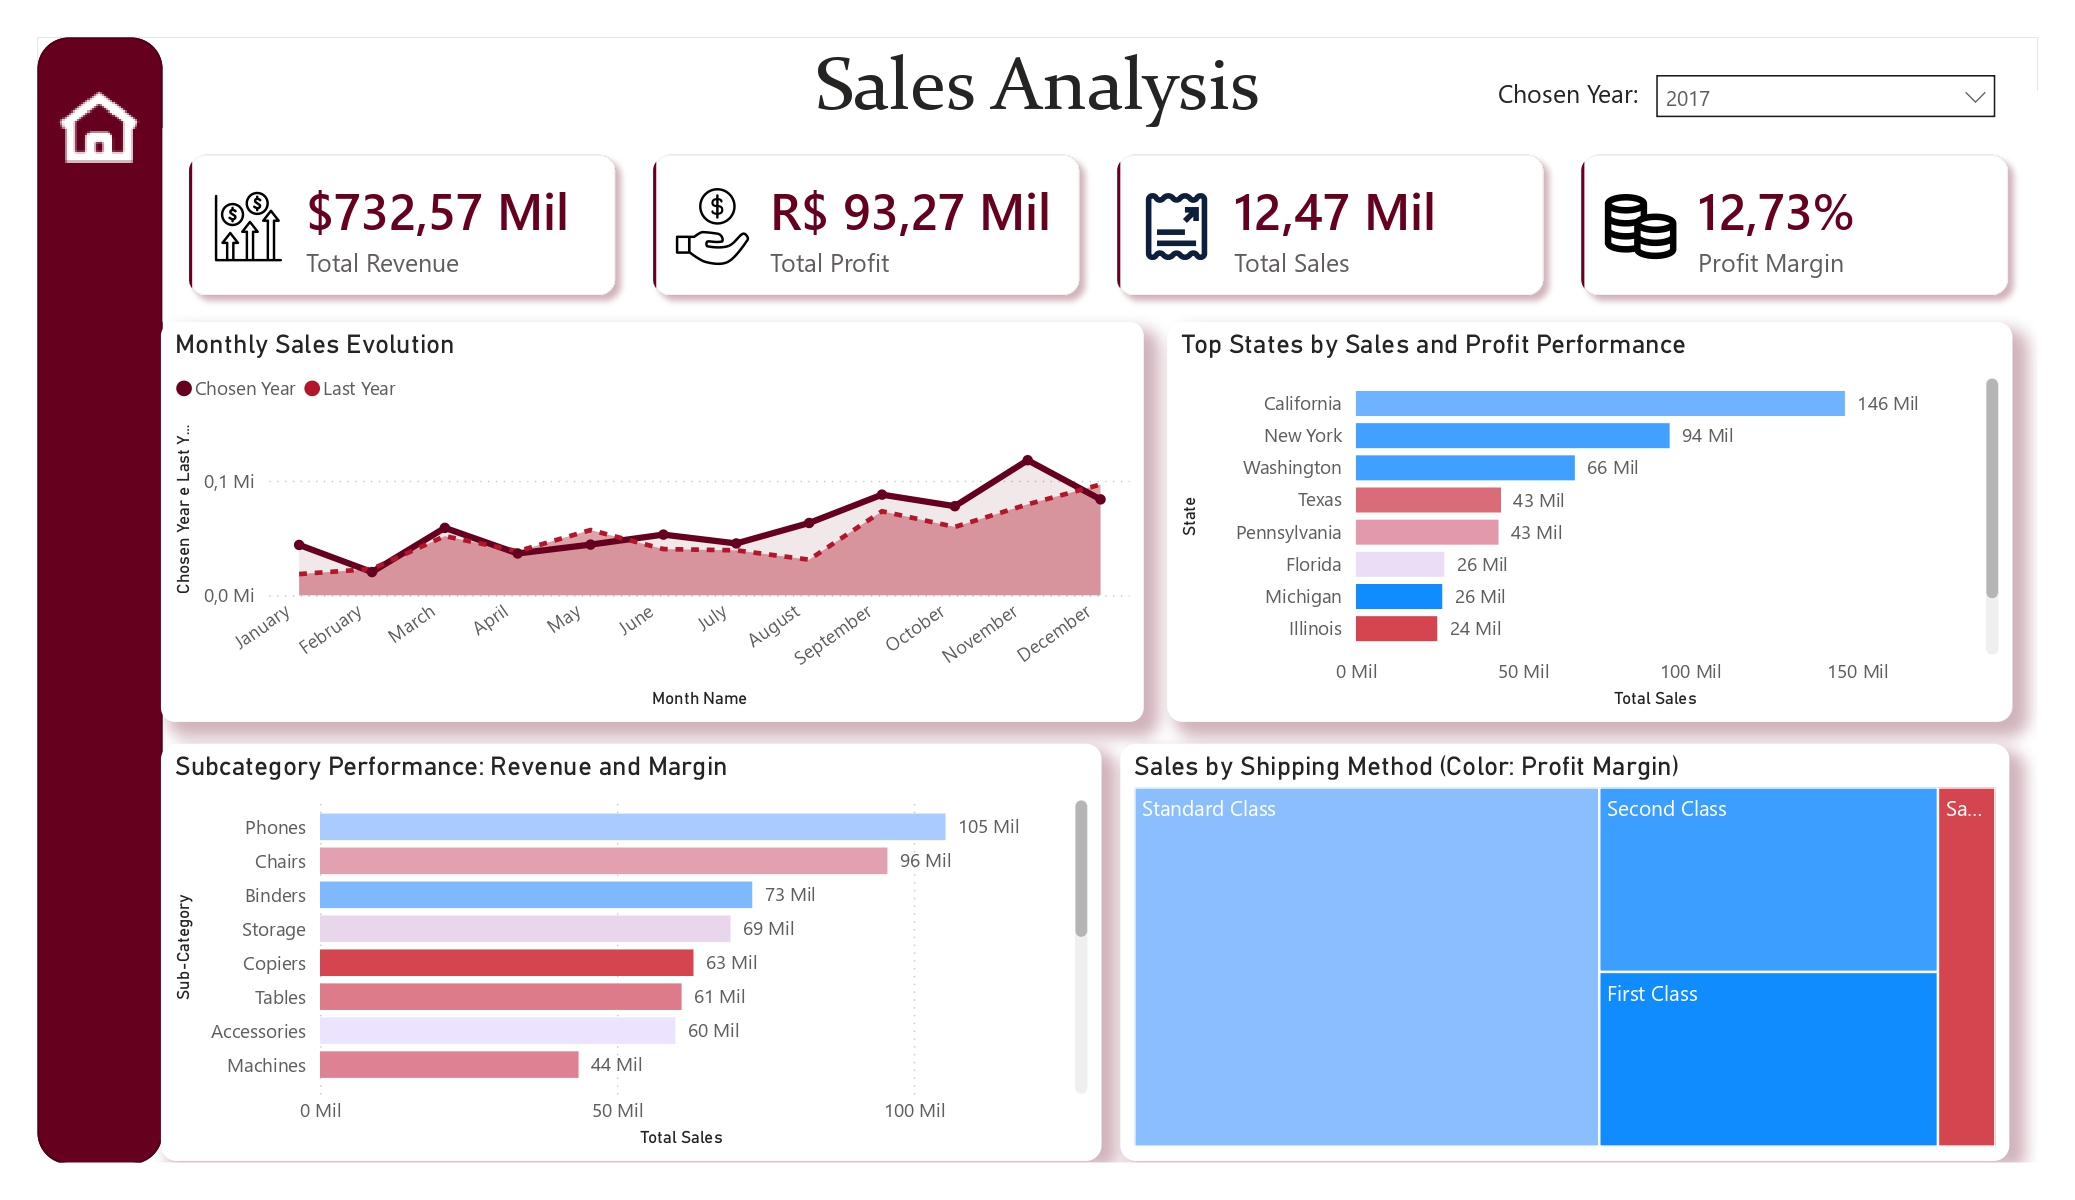

The dashboard page shown, as its layout file describes it:
{"tool":"powerbi","page":{"name":"Página 1","canvas":[1280,720],"ordinal":0},"visuals":[{"type":"textbox","box":[0,0,1280.3,68],"z":0},{"type":"shape","box":[0,0,79.9,720.8],"z":1000},{"type":"cardVisual","fields":{"Data":["_Medidas.Total Sales","_Medidas.Total Profit","_Medidas.Total Quantity","_Medidas.Profit Margin"]},"box":[79.9,57.9,1200.3,124],"z":2000},{"type":"lineChart","title":"Monthly Sales Evolution","fields":{"Category":["dCalendario.Month Name"],"Y":["_Medidas.Total Sales","_Medidas.Sales LY"]},"box":[79.4,182.1,628.5,256.1],"z":3000},{"type":"slicer","title":"Chosen Year","fields":{"Values":["dCalendario.year"]},"box":[1026.3,13.7,236.4,41.1],"z":4000},{"type":"clusteredBarChart","title":" Subcategory Performance: Revenue and Margin","fields":{"Category":["dProducts3.Sub-Category"],"Y":["_Medidas.Total Sales"]},"box":[79.4,451.9,601.1,267],"z":5000},{"type":"actionButton","box":[6.2,23.6,67.2,68.4],"z":6000},{"type":"barChart","title":" Top  States by Sales and Profit Performance","fields":{"Category":["dGeography2.State"],"Y":["_Medidas.Total Sales"]},"box":[723,182.1,540.9,256.1],"z":7000},{"type":"treemap","title":"Sales by Shipping Method (Color: Profit Margin)","fields":{"Group":["fSales1.Ship Mode"],"Values":["_Medidas.Total Sales"]},"box":[692.9,451.9,569.6,267],"z":8000},{"type":"textbox","box":[926.7,19.9,105.7,39.8],"z":9000}]}

Visuals, with their boxes in screenshot pixels (x1, y1, x2, y2):
textbox: 32:103:2007:208
shape: 32:103:156:1199
cardVisual - _Medidas.Total Sales x _Medidas.Total Profit: 156:192:2007:383
"Monthly Sales Evolution" lineChart: 155:383:1124:778
"Chosen Year" slicer: 1615:124:1980:187
" Subcategory Performance: Revenue and Margin" clusteredBarChart: 155:800:1082:1199
actionButton: 42:139:146:245
" Top  States by Sales and Profit Performance" barChart: 1147:383:1981:778
"Sales by Shipping Method (Color: Profit Margin)" treemap: 1101:800:1979:1199
textbox: 1461:133:1624:195
